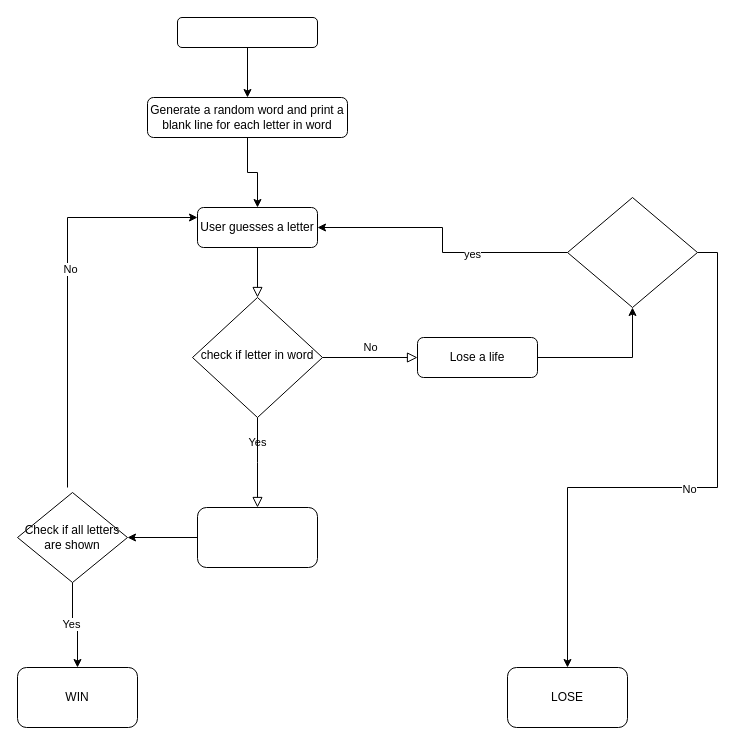
This 743x745 diagram has some shape labels left out. Here are the shapes that lost their labels. From the top down, the box of each, then its label:
(176, 16, 318, 48): Welcome
(566, 196, 698, 308): Check if user has enough lives to guess again
(196, 506, 318, 568): Show letter(s) in word
